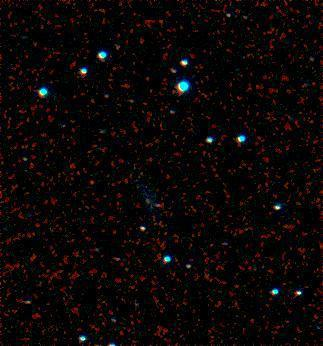star: (75, 163, 105, 193)
